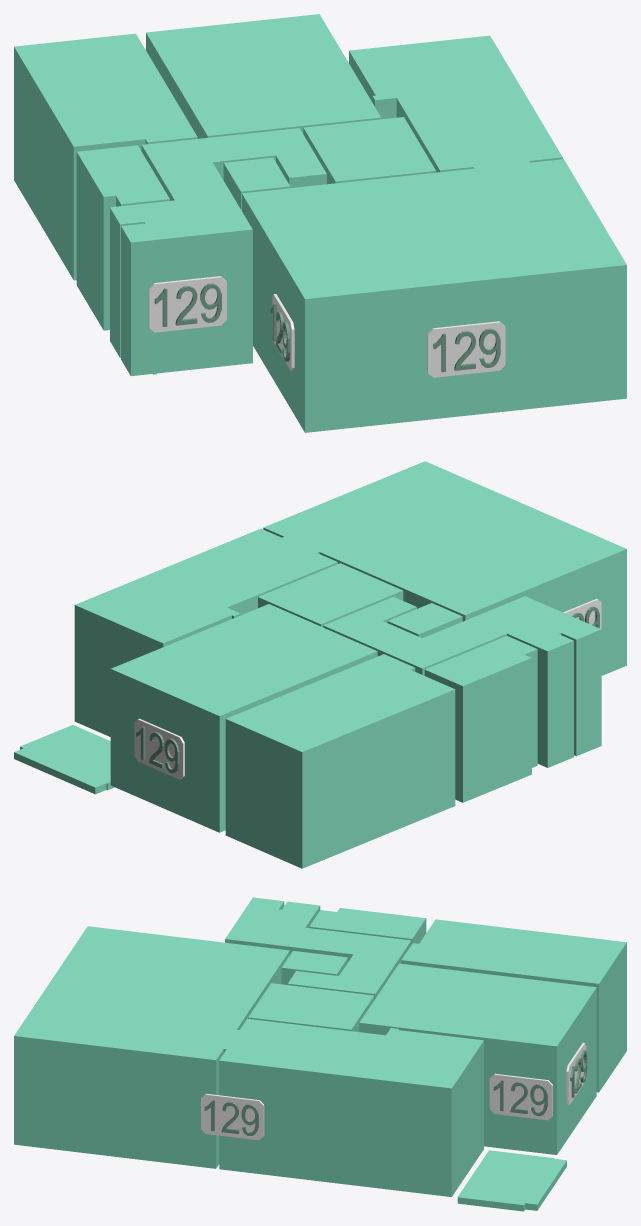
The picture shows the model from 3 angles, top to bottom: view 1: azimuth 30°, elevation 25°; view 2: azimuth 150°, elevation 25°; view 3: azimuth 270°, elevation 25°; orthographic projection. The views are drawn at different scales.
Visible parts, largest first — view 1: g_1, g_7, g_4, g_3, g_0, g_5, g_2, g_12, g_32, g_6, g_20; view 2: g_4, g_1, g_3, g_0, g_7, g_5, g_2, g_8, g_24, g_6; view 3: g_1, g_0, g_3, g_4, g_7, g_8, g_2, g_5, g_28, g_16, g_6, g_24.
Part boxes in pixels (box(x1,y1,x2,y2)): g_1: box(242, 159, 626, 432); g_7: box(110, 128, 326, 376); g_4: box(14, 33, 197, 280); g_3: box(146, 14, 381, 138); g_0: box(349, 35, 562, 172); g_5: box(76, 145, 169, 330); g_2: box(303, 117, 436, 184); g_12: box(427, 321, 505, 377); g_32: box(148, 276, 226, 332); g_6: box(223, 157, 290, 210); g_20: box(272, 294, 294, 370); g_4: box(225, 654, 455, 868); g_1: box(263, 461, 626, 675); g_3: box(110, 604, 377, 832); g_0: box(74, 528, 337, 736); g_7: box(323, 596, 601, 767); g_5: box(424, 636, 537, 802); g_2: box(258, 563, 403, 627); g_8: box(14, 725, 114, 794); g_24: box(134, 718, 184, 779); g_6: box(387, 603, 462, 638); g_1: box(14, 926, 289, 1168); g_0: box(219, 1018, 483, 1196); g_3: box(359, 963, 596, 1154); g_4: box(401, 919, 626, 1092); g_7: box(225, 897, 411, 999); g_8: box(457, 1150, 566, 1211); g_2: box(248, 983, 374, 1031); g_5: box(309, 908, 426, 944); g_28: box(489, 1073, 552, 1120); g_16: box(201, 1093, 264, 1140); g_6: box(281, 951, 347, 984); g_24: box(566, 1042, 586, 1104).
Size of the model in its own units: 10.08 by 2.74 by 13.16.
